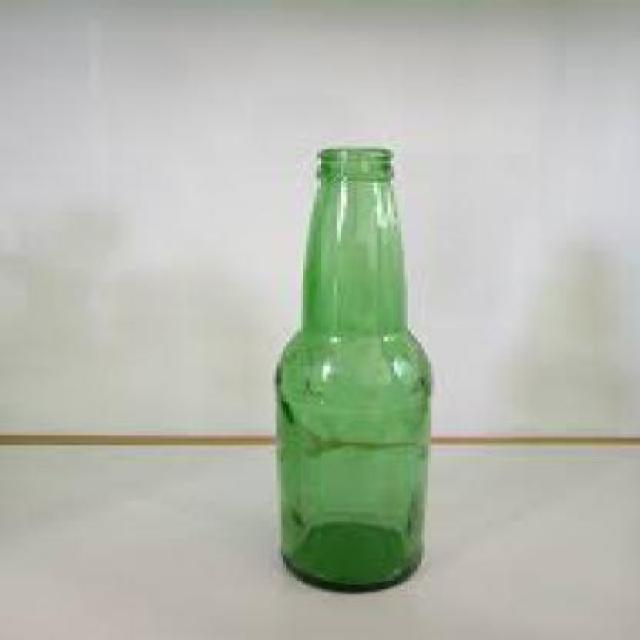kaca: (272, 148, 428, 590)
